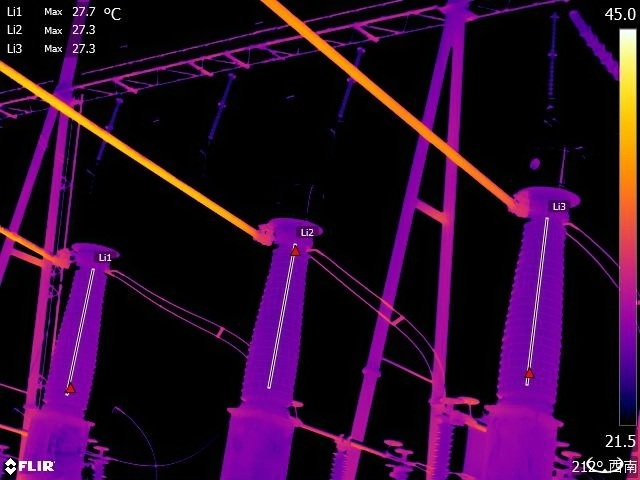current transformer: (463, 121, 592, 480), (10, 196, 131, 480), (210, 201, 330, 480)
insulator: (571, 3, 617, 84), (332, 41, 371, 125), (88, 94, 124, 168), (205, 69, 240, 145), (539, 9, 561, 108)
post insulator: (427, 414, 461, 480), (328, 448, 351, 480)
